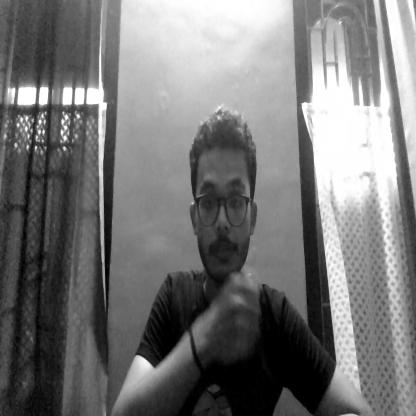Normal: (196, 113, 259, 289)
